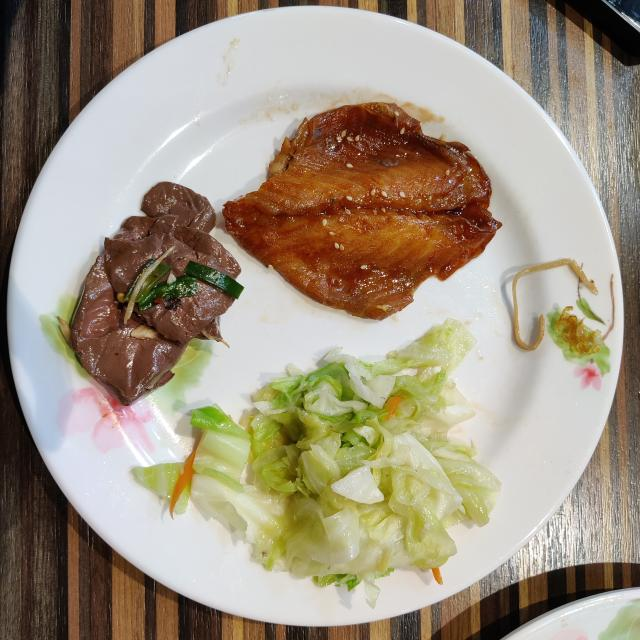Kabayaki sea bream fillet: (224, 102, 500, 320)
cabbage: (134, 320, 500, 608)
pig blood curd: (70, 182, 241, 405)
